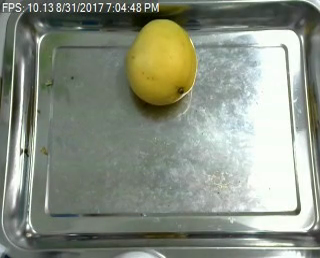Mango: (126, 20, 198, 102)
